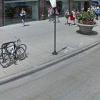Bicycle: (2, 36, 28, 68)
